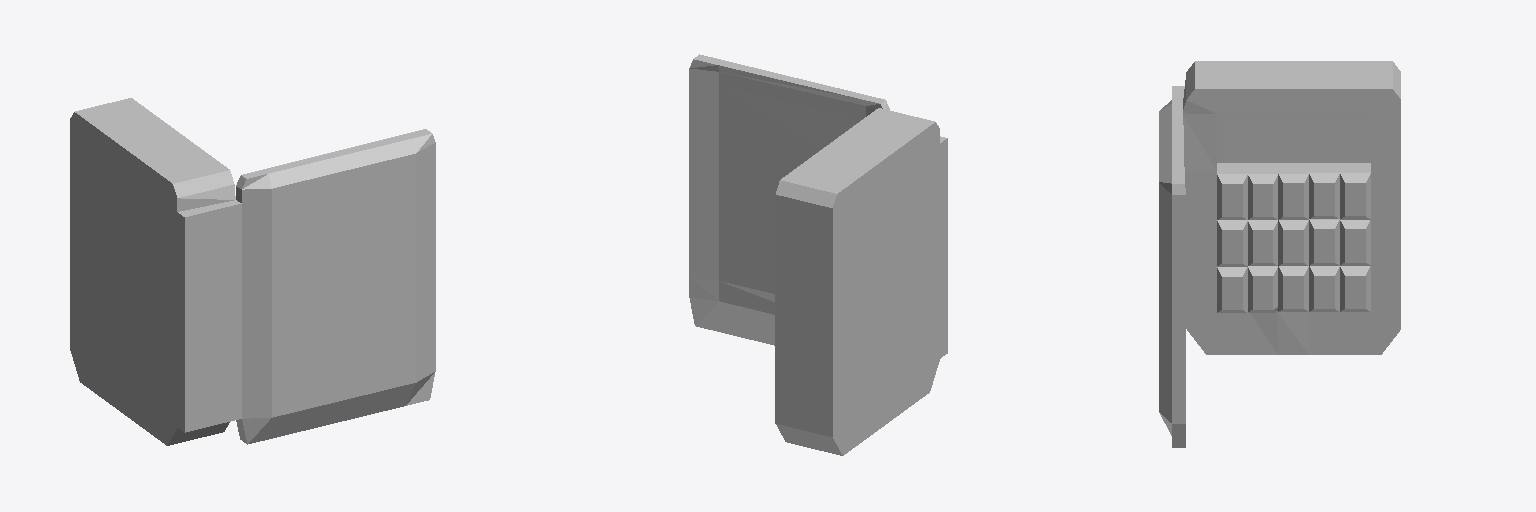
The model's file is security.obj.
The picture shows the model from 3 angles: view 1: azimuth 30°, elevation 25°; view 2: azimuth 150°, elevation 25°; view 3: azimuth 270°, elevation 25°; orthographic projection.
Visible parts, largest first — view 1: Cube; view 2: Cube; view 3: Cube.
Part boxes in pixels (x1,y1,x2,y2): Cube: (70, 98, 435, 445); Cube: (689, 54, 947, 455); Cube: (1159, 61, 1400, 447).
Bounding box in the file's own units: 1.9 × 1.93 × 1.59.